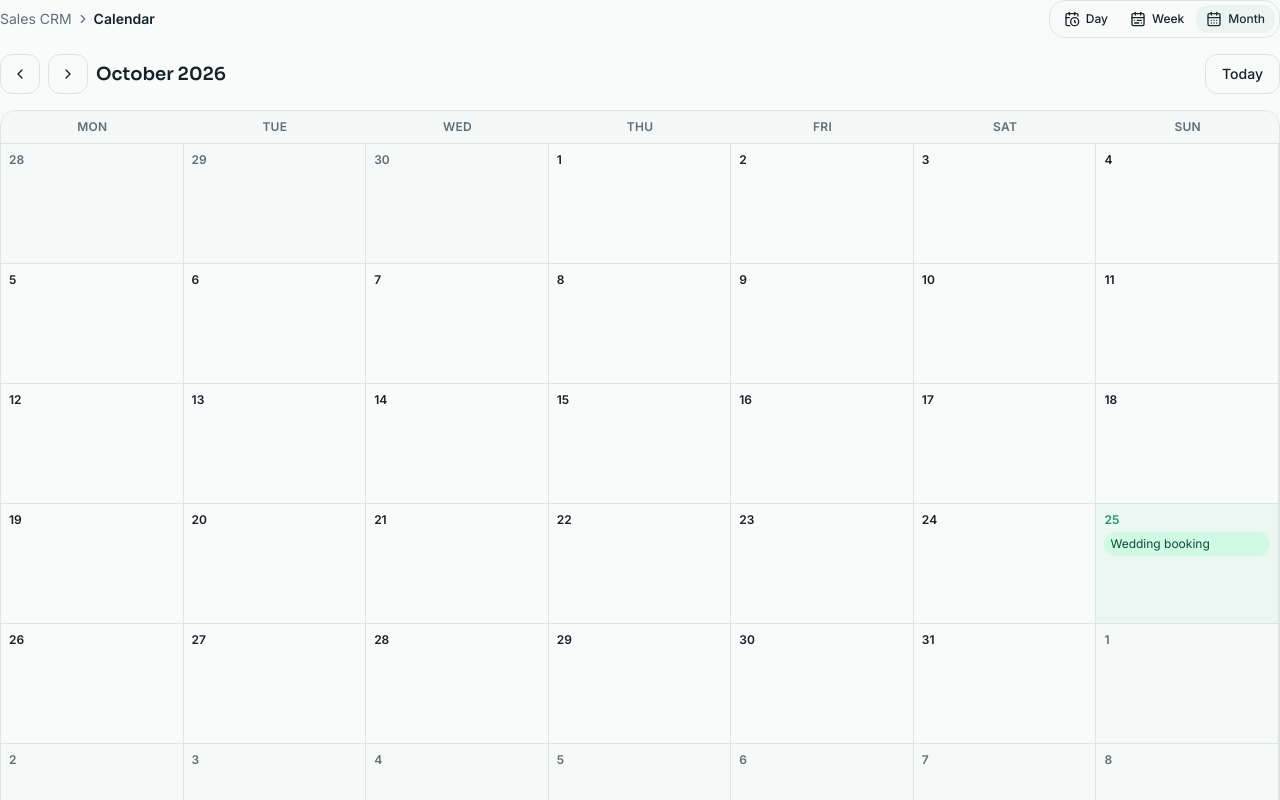
Test: CRM modules › warns that removing a booking also removes its enquiry
Step 1. Click the button "Wedding booking" → (1187, 544), box [1104,532,1270,556]
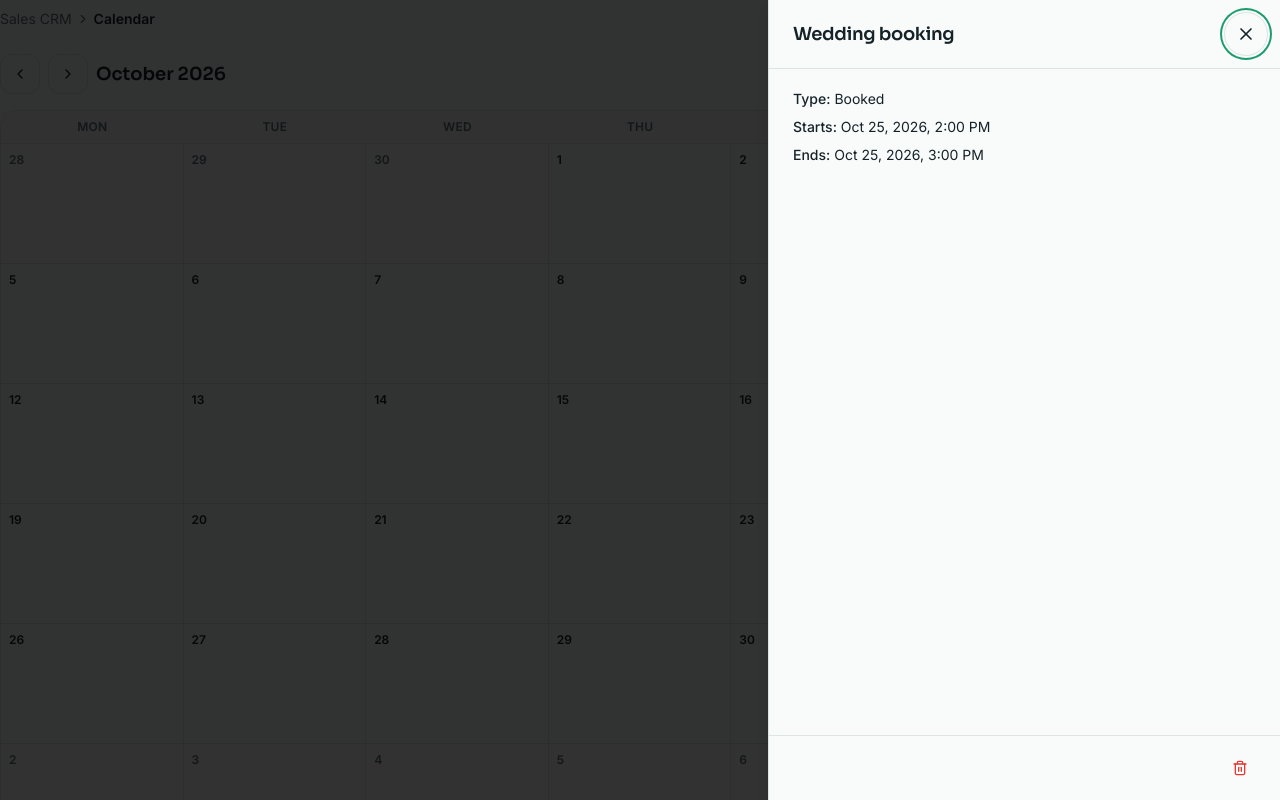
Step 2. Click the button named "Remove booking" → (1240, 768), box [1224,752,1256,784]
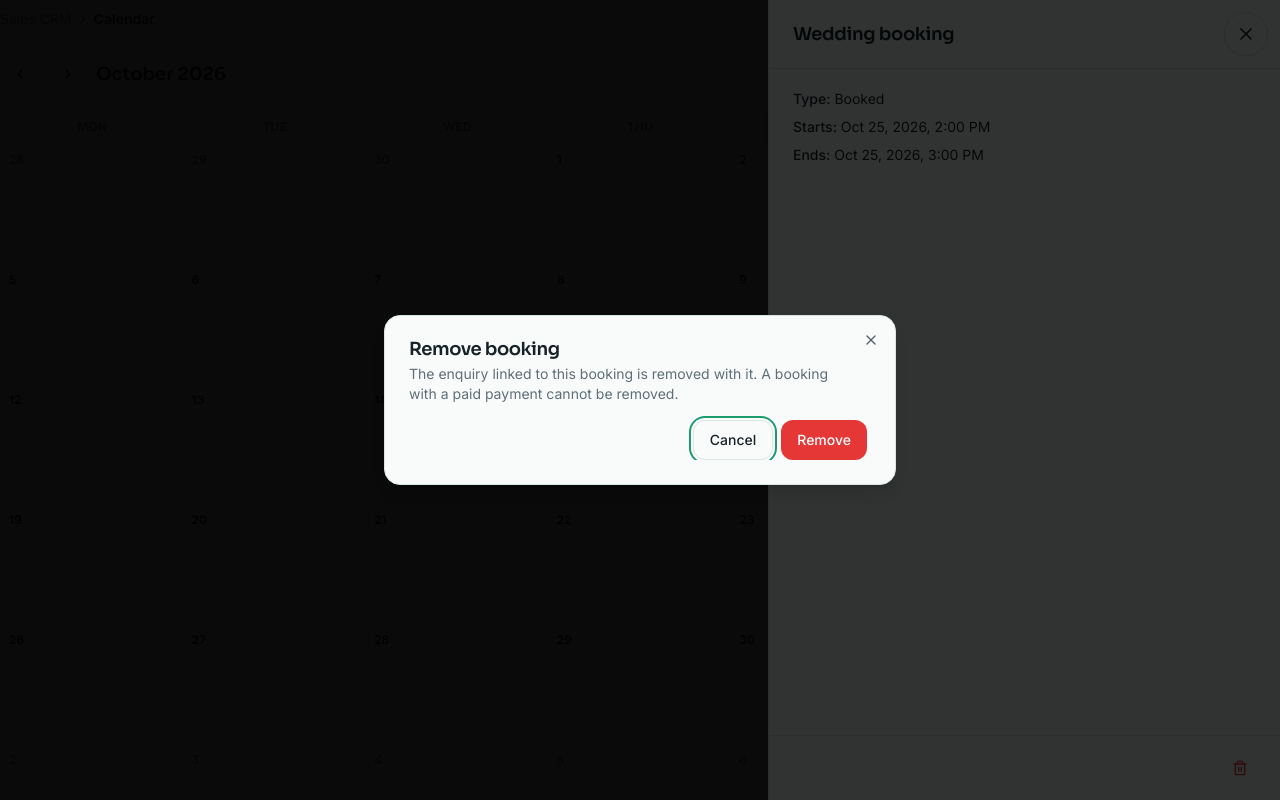
Now the text "The enquiry linked to this booking is removed with it. A booking with a paid payment cannot be removed." is shown, box [409,365,828,402]
